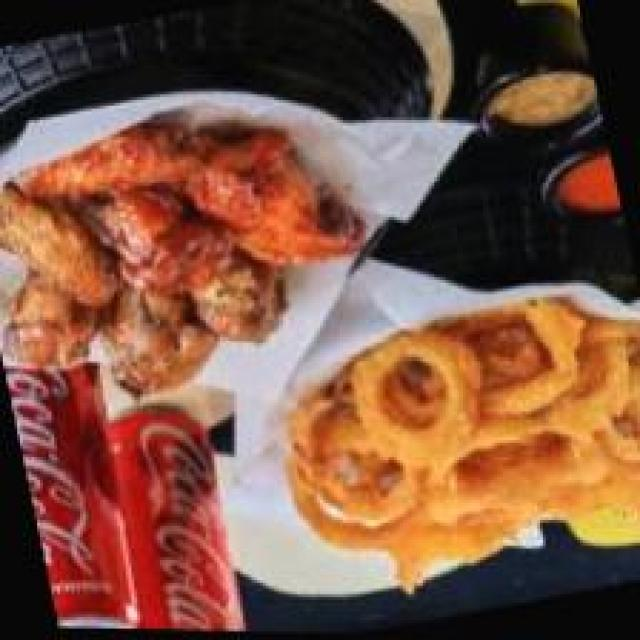Chicken Wings: (0, 73, 400, 436)
Onion Rings: (274, 297, 640, 609)
